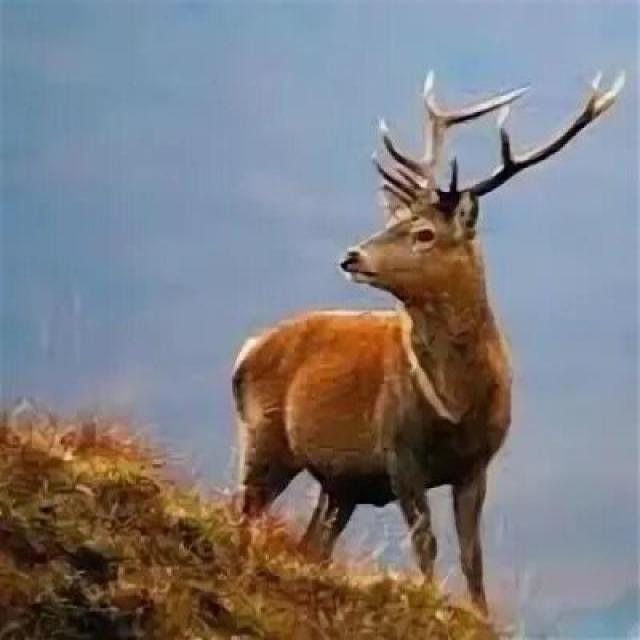deer: (243, 116, 602, 623)
